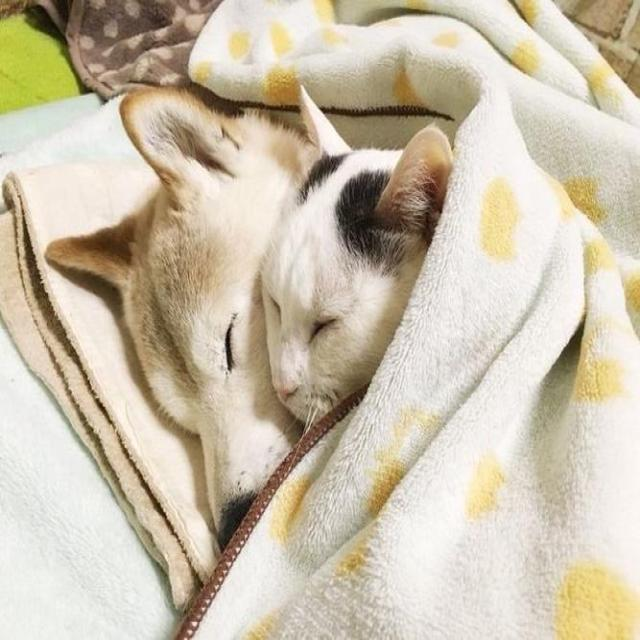cat: (265, 117, 468, 424)
dog: (43, 85, 271, 558)
